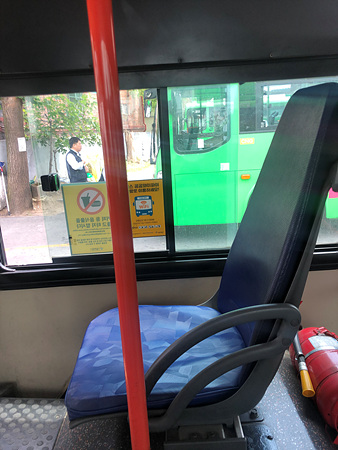seat: (72, 85, 331, 423)
